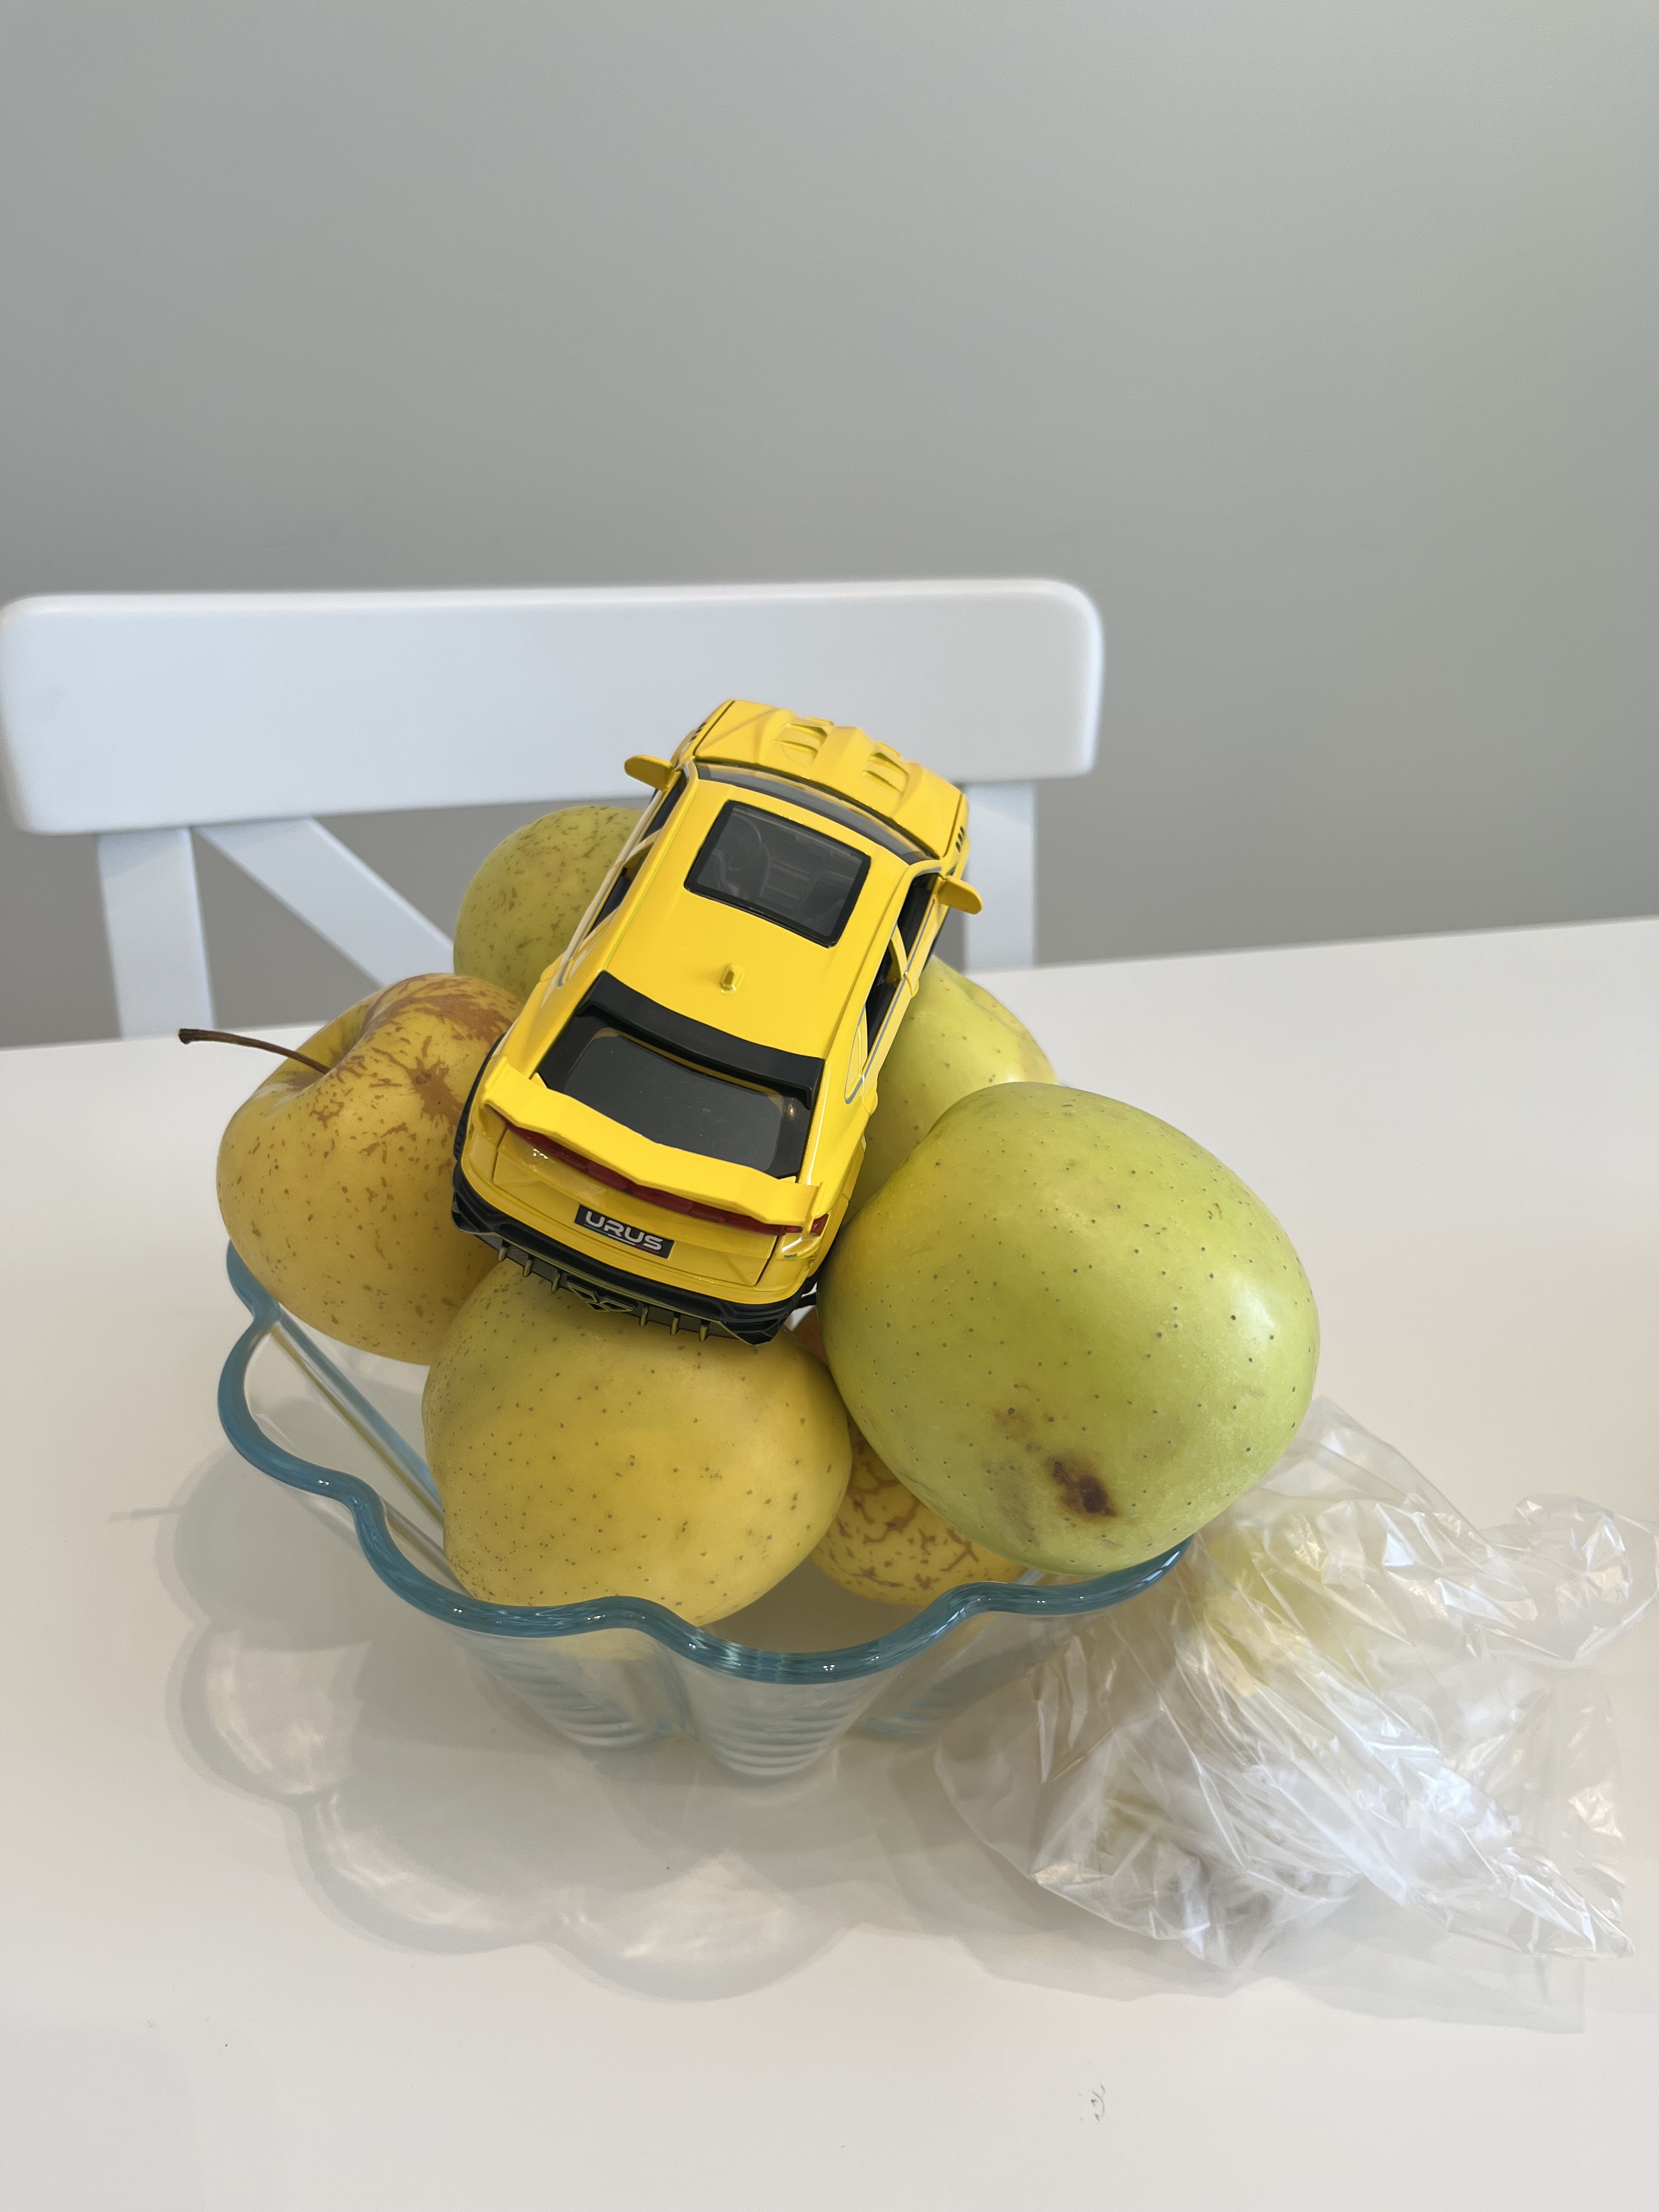lambo: (413, 664, 986, 1331)
